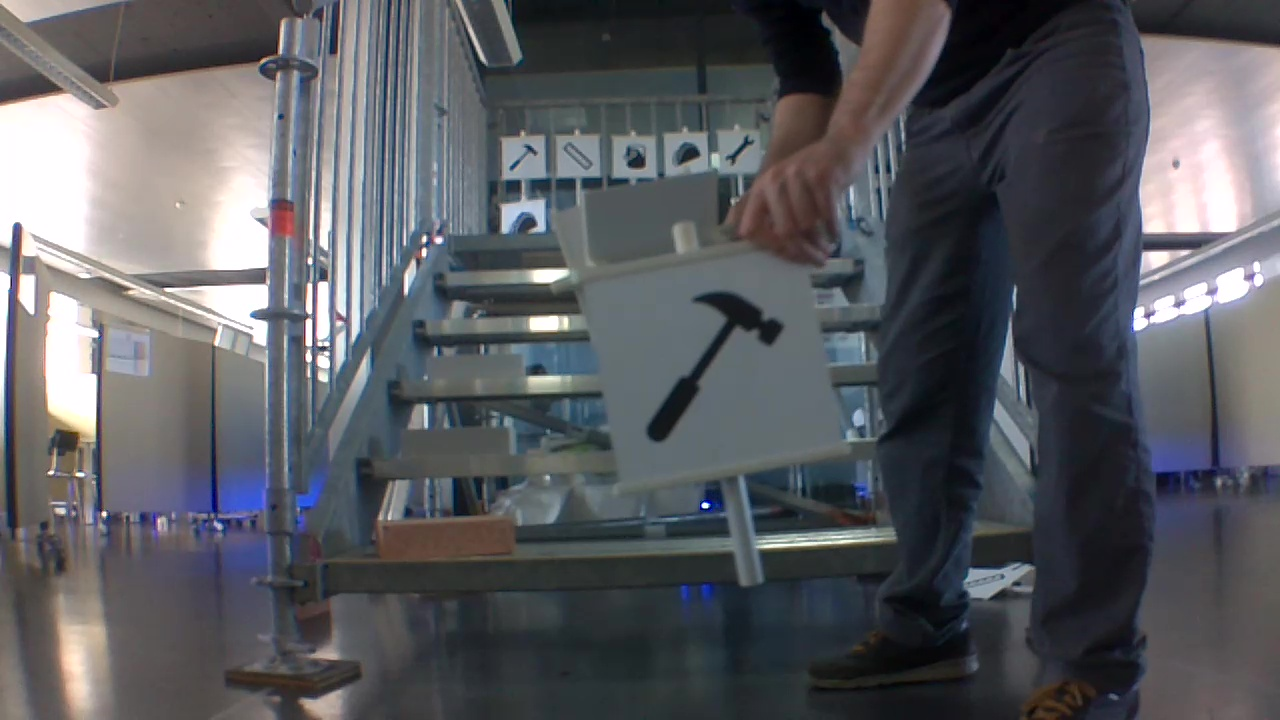brick: (371, 517, 516, 560), (392, 423, 517, 459), (417, 348, 523, 379)
bucket: (619, 139, 648, 173)
hammer: (646, 283, 785, 447), (508, 143, 538, 172)
ruler: (560, 140, 593, 170)
taco: (672, 137, 703, 169), (511, 209, 540, 237)
wrench: (726, 135, 756, 164)
